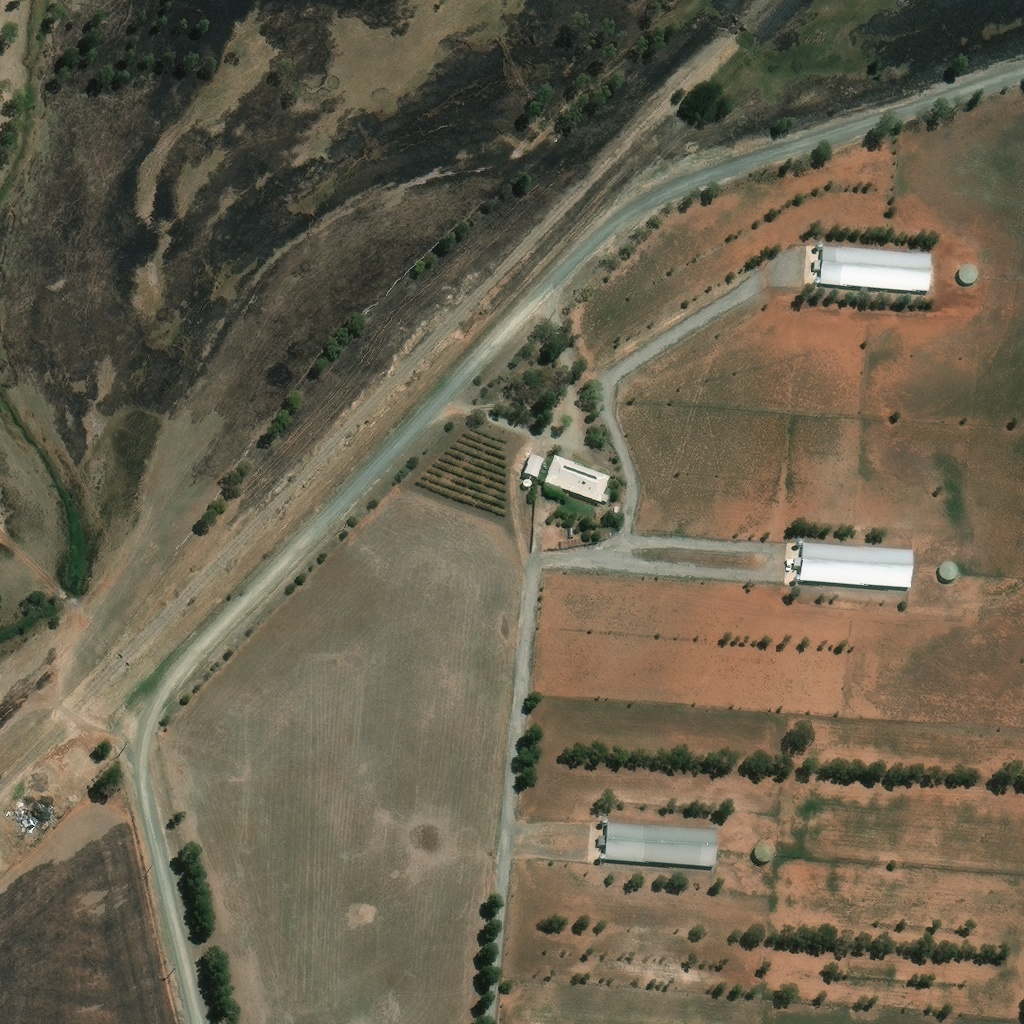0 no-damage: (596, 819, 719, 869), (813, 243, 933, 291), (793, 542, 915, 587), (523, 454, 612, 503), (752, 843, 773, 864), (958, 263, 979, 282), (938, 562, 959, 581), (522, 478, 532, 488), (614, 505, 621, 513), (796, 541, 801, 545)
